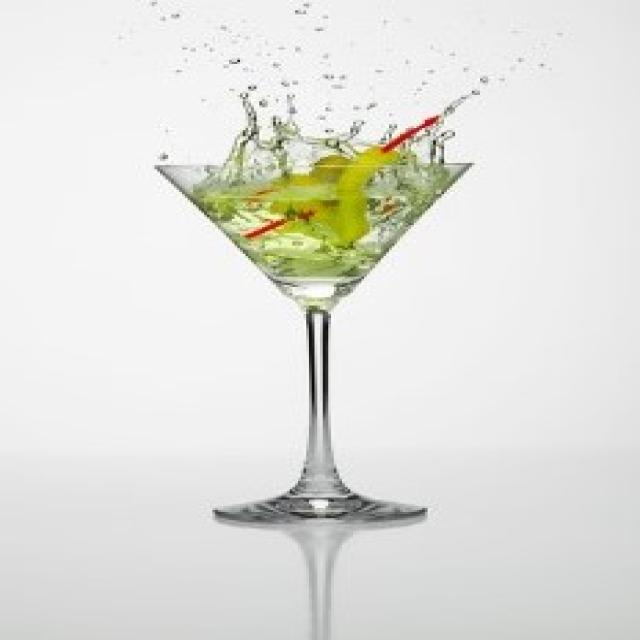electronic: (156, 157, 478, 530)
